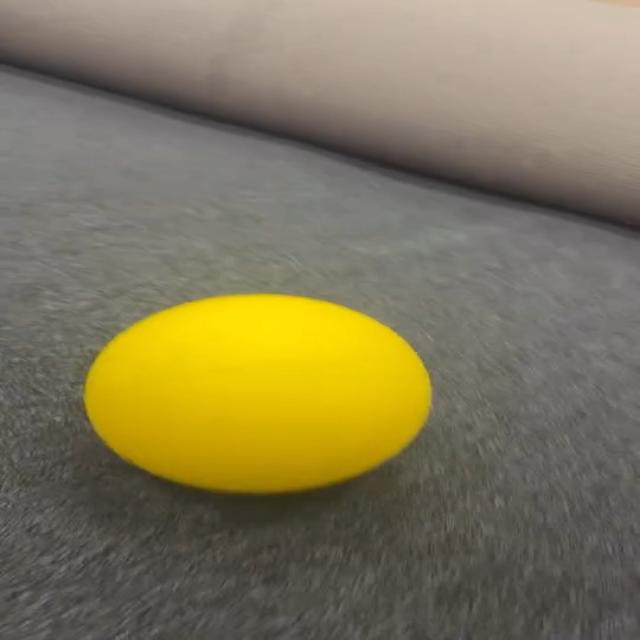Fuels: (86, 293, 431, 492)
